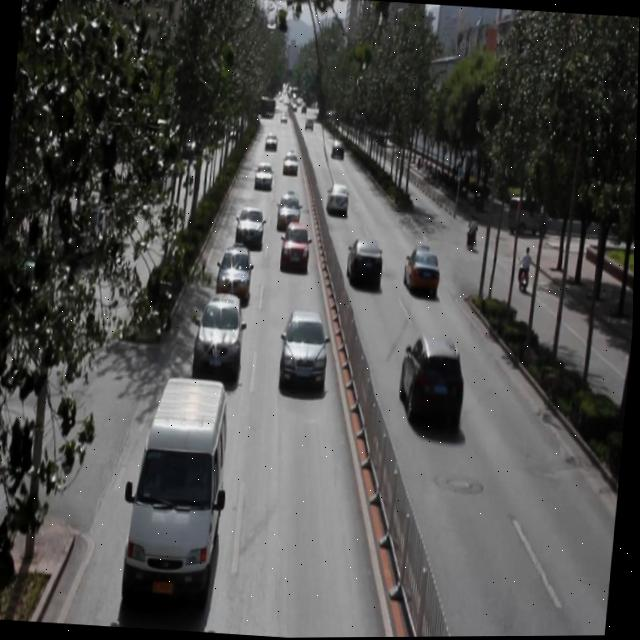car: (397, 329, 468, 429), (191, 290, 246, 379), (278, 307, 330, 388), (344, 233, 386, 291), (214, 243, 253, 301), (401, 245, 441, 297), (278, 218, 311, 270), (235, 203, 265, 245), (276, 189, 303, 230), (324, 180, 350, 215), (253, 159, 274, 194)
truck: (125, 372, 230, 597)
